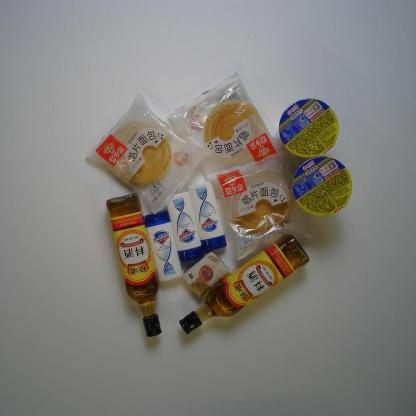Dessert: (87, 96, 216, 210), (170, 76, 280, 175), (210, 152, 298, 242)
Instant Noodles: (276, 98, 344, 155), (291, 156, 355, 216)
Personal Hygiene: (163, 193, 209, 275), (141, 209, 188, 284), (190, 180, 228, 255)
Seasoner: (166, 231, 312, 335), (103, 191, 174, 339)
Tissue: (178, 251, 228, 295)
